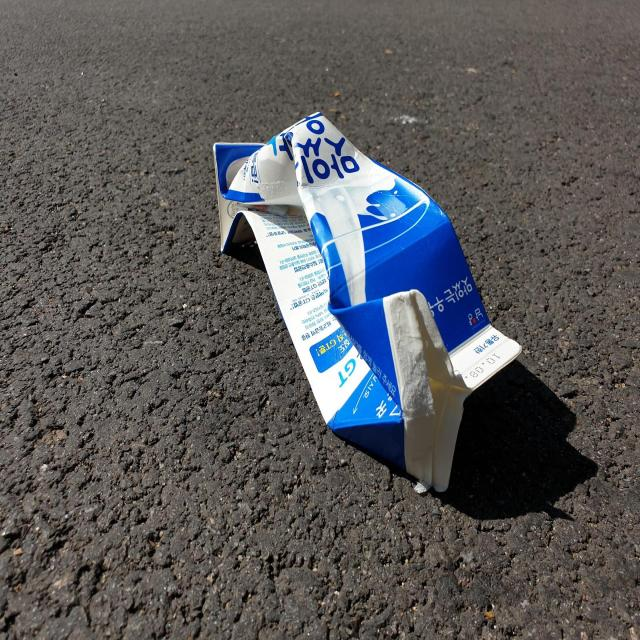paperpack: (214, 112, 517, 492)
